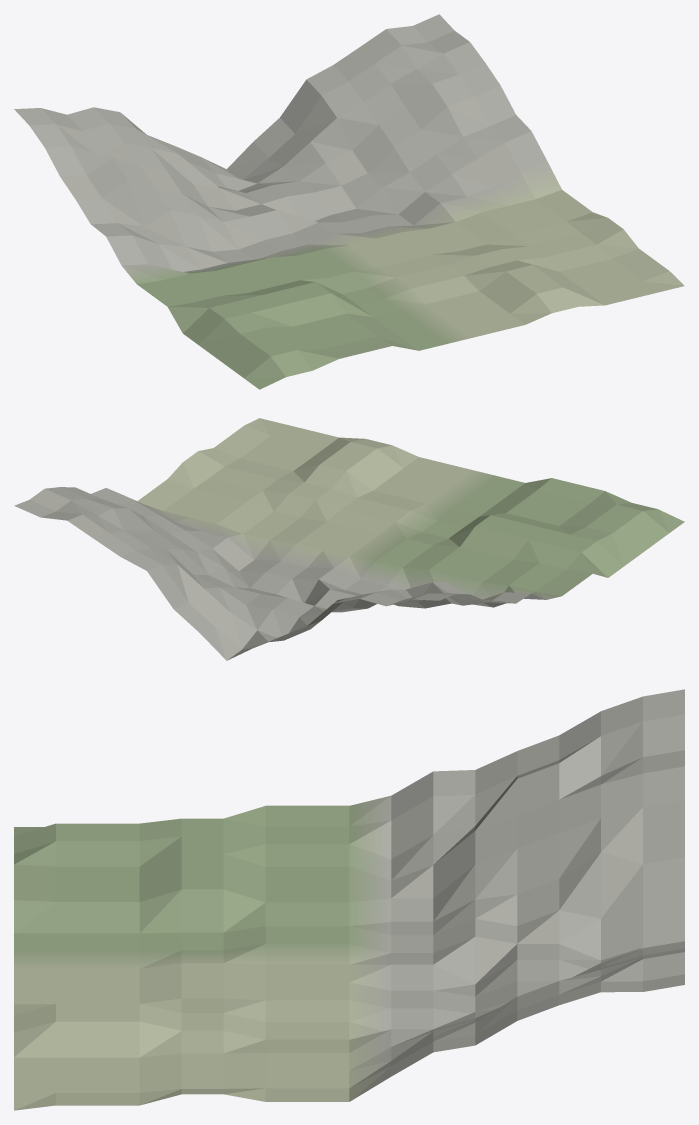
3 views of the same model, one above another, from view 1: azimuth 30°, elevation 25°; view 2: azimuth 150°, elevation 25°; view 3: azimuth 270°, elevation 25° (orthographic). The views are drawn at different scales.
Bounding box in the file's own units: 32 × 8.07 × 32.
